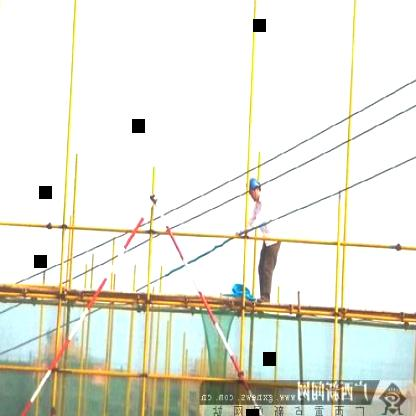helmet: (244, 176, 266, 204)
